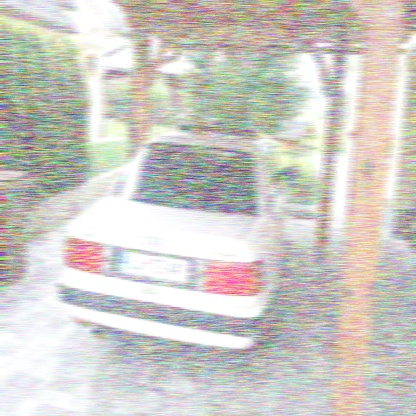Vehicle: (59, 125, 300, 364)
